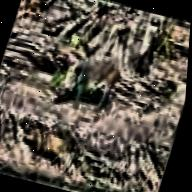boar: (55, 48, 134, 118)
